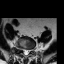CCS_normal: (25, 46, 27, 57)
LFS_stenosis: (30, 46, 32, 53)
LLS_normal: (27, 46, 30, 55)
RFS_normal: (20, 44, 22, 52)
RLS_normal: (22, 45, 25, 56)
